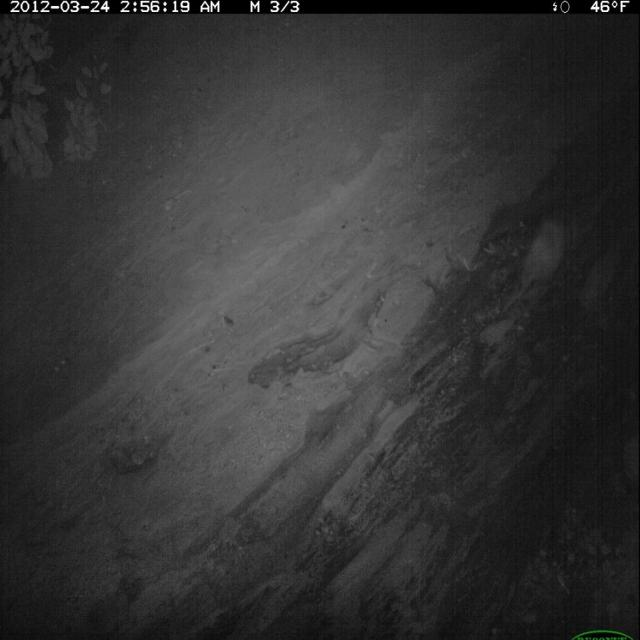opossum: (497, 201, 574, 332)
